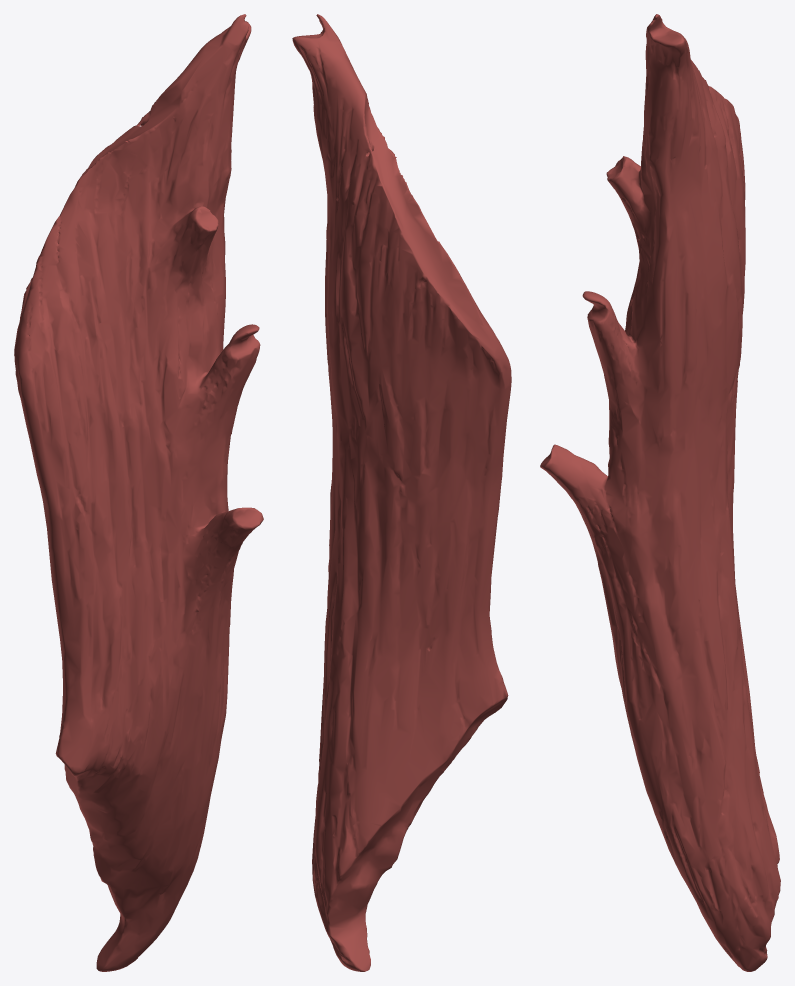
File: FMA22348.glb
3 views of the same model, side by side, from view 1: azimuth 30°, elevation 25°; view 2: azimuth 150°, elevation 25°; view 3: azimuth 270°, elevation 25° (orthographic). The views are drawn at different scales.
Parts seen in each view (by area): view 1: FMA22348; view 2: FMA22348; view 3: FMA22348.
Part boxes in pixels (x1,y1,x2,y2): FMA22348: (14, 14, 263, 971); FMA22348: (292, 14, 511, 971); FMA22348: (540, 14, 780, 971).
Size of the model in its own units: 0.0497 by 0.1998 by 0.0438.
